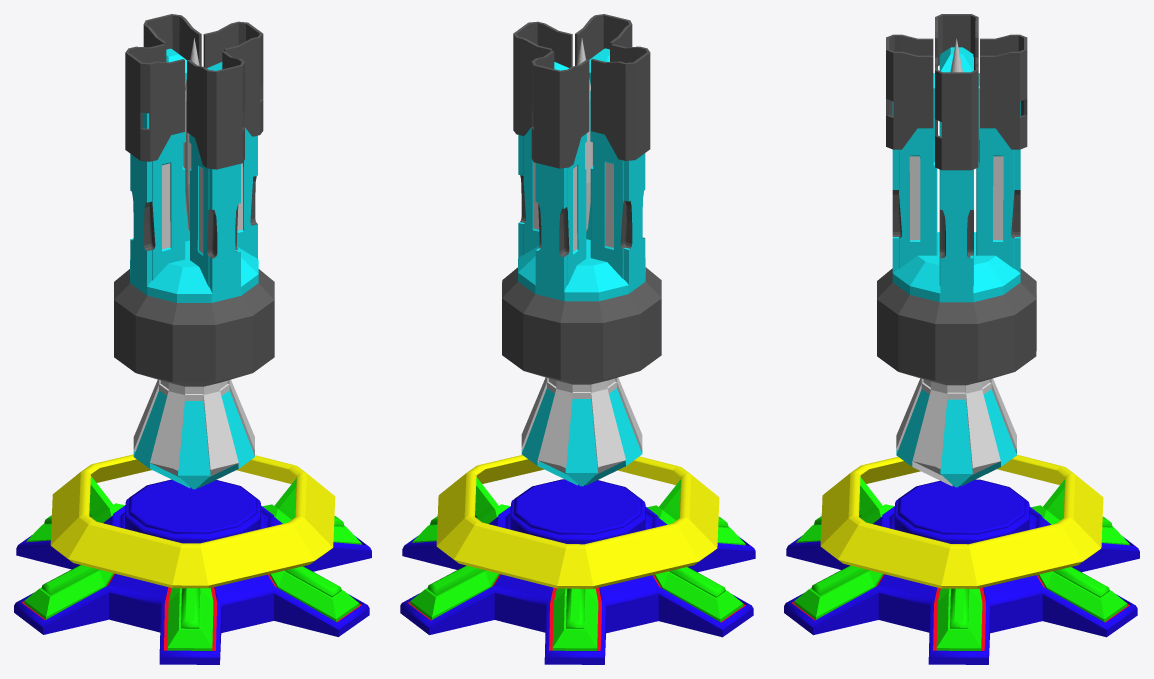
The model's file is SlowTurret.fbx.
3 renders of one model, left to right at view 1: azimuth 30°, elevation 25°; view 2: azimuth 150°, elevation 25°; view 3: azimuth 270°, elevation 25°, orthographic.
Visible parts, largest first — view 1: Base.002, SlowingAnimated, SlowingHead, Crystal; view 2: Base.002, SlowingAnimated, SlowingHead, Crystal; view 3: Base.002, SlowingAnimated, SlowingHead.
Part boxes in pixels (box(x1,y1,x2,y2)): Base.002: box(14, 454, 371, 664); SlowingAnimated: box(114, 48, 274, 489); SlowingHead: box(125, 14, 263, 169); Crystal: box(183, 38, 199, 233); Base.002: box(400, 455, 755, 664); SlowingAnimated: box(502, 48, 661, 486); SlowingHead: box(513, 14, 650, 168); Crystal: box(576, 38, 592, 231); Base.002: box(784, 454, 1139, 664); SlowingAnimated: box(877, 47, 1036, 487); SlowingHead: box(886, 14, 1027, 170).
Bounding box in the file's own units: 573 × 974 × 604.
